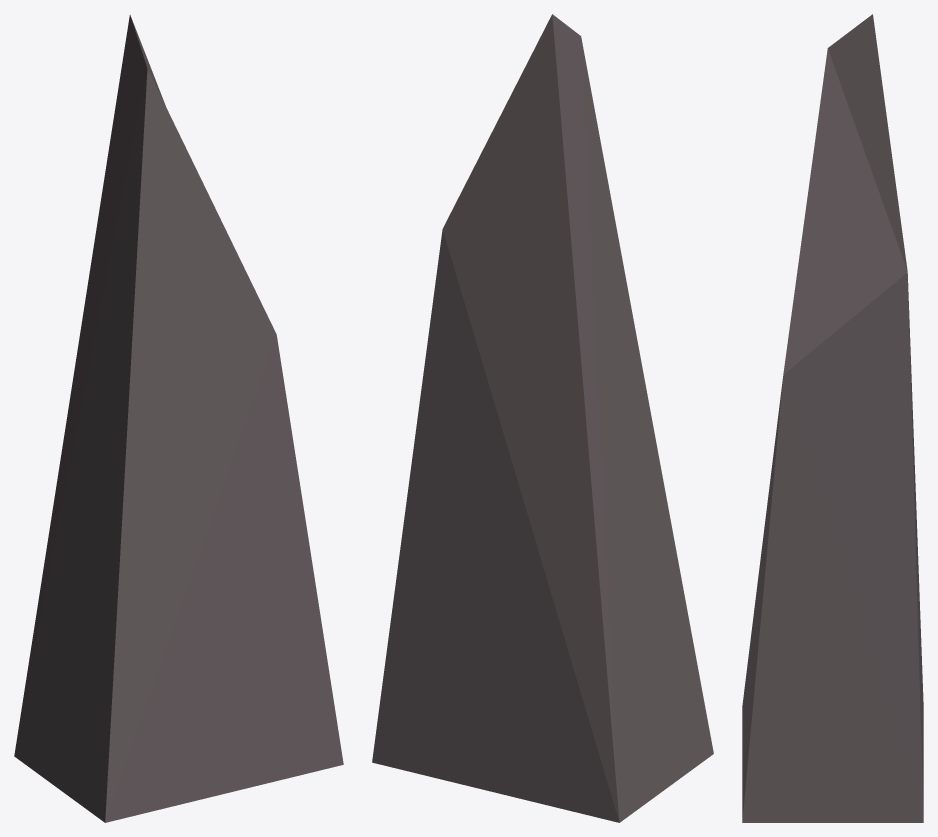
File: Rock_Sharp_s_04.fbx
3 renders of one model, left to right at view 1: azimuth 30°, elevation 25°; view 2: azimuth 150°, elevation 25°; view 3: azimuth 270°, elevation 25°, orthographic. The views are drawn at different scales.
Parts seen in each view (by area): view 1: Rock_Sharp_s_04; view 2: Rock_Sharp_s_04; view 3: Rock_Sharp_s_04.
Part boxes in pixels (x1,y1,x2,y2): Rock_Sharp_s_04: (14, 15, 343, 822); Rock_Sharp_s_04: (372, 14, 713, 822); Rock_Sharp_s_04: (742, 14, 923, 822).
Size of the model in its own units: 0.2713 by 0.8032 by 0.1792.
